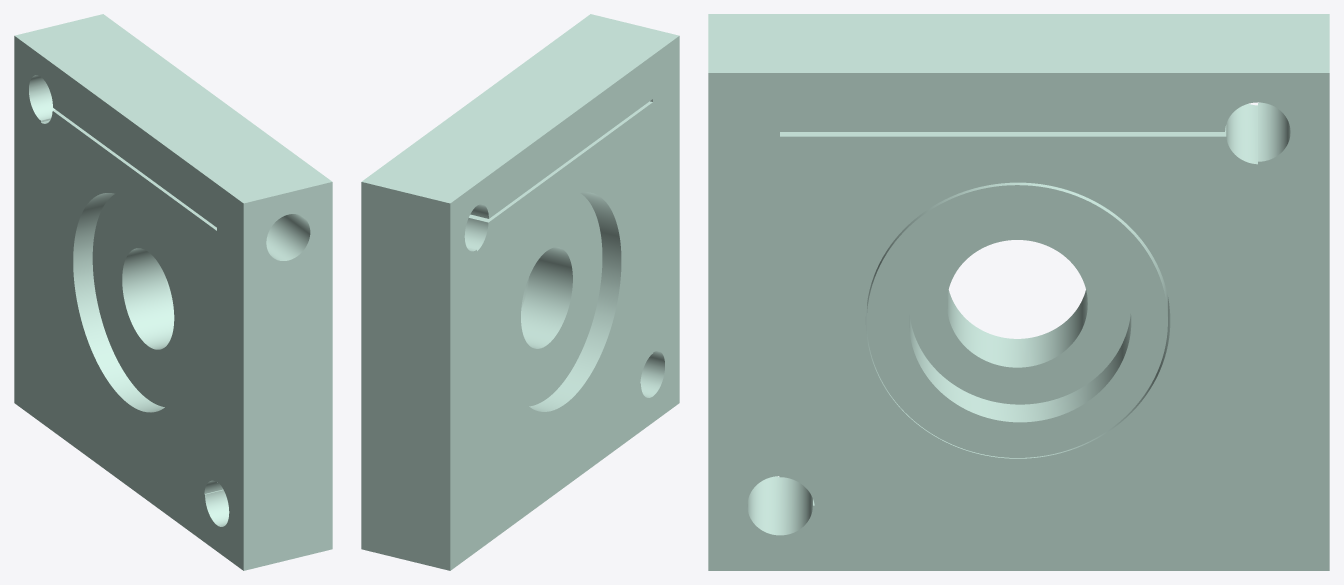
The model's file is expected.gltf.
3 views of the same model, side by side, from view 1: azimuth 30°, elevation 25°; view 2: azimuth 150°, elevation 25°; view 3: azimuth 270°, elevation 25° (orthographic). The views are drawn at different scales.
Parts seen in each view (by area): view 1: Renderer Node; view 2: Renderer Node; view 3: Renderer Node.
Boxes of the visible parts, <box> form: Renderer Node: <box>14,14,332,570</box>; Renderer Node: <box>361,14,679,570</box>; Renderer Node: <box>708,14,1329,570</box>.
Bounding box in the file's own units: 0.3359 × 1.33 × 1.5.
